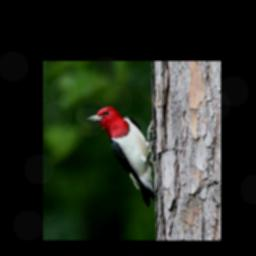Woodpecker: (83, 106, 159, 206)
